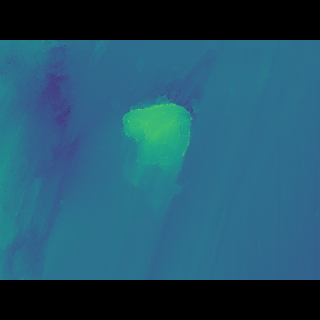Loch: (0, 68, 101, 248), (115, 75, 222, 195)
